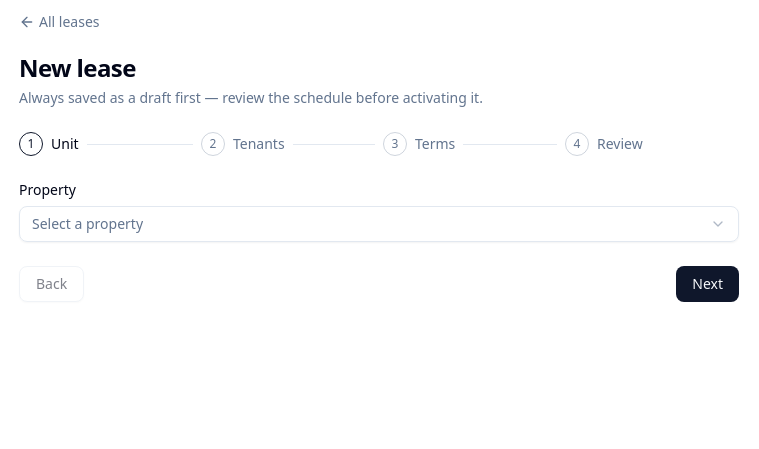
Test: CreateLeasePage wizard › does not advance past the tenants step until at least one tenant is selected
The image size is (759, 449).
Click the dropdown labelled "Select a property": (88, 224) [19,206,739,242]
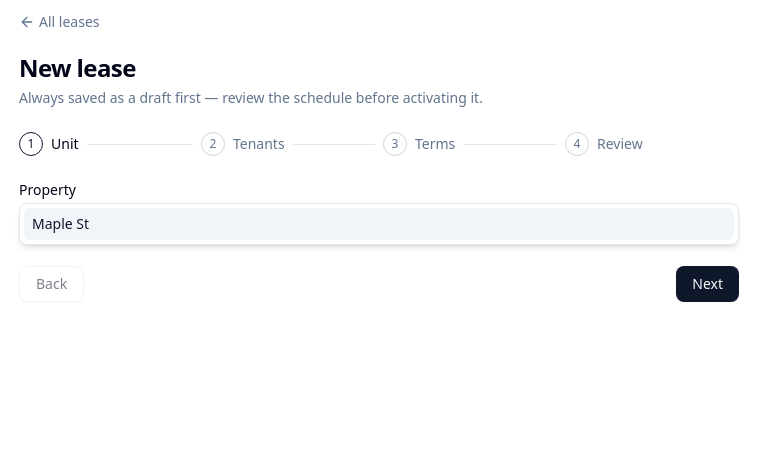
Click the option "Maple St": (61, 224) [24,208,734,240]
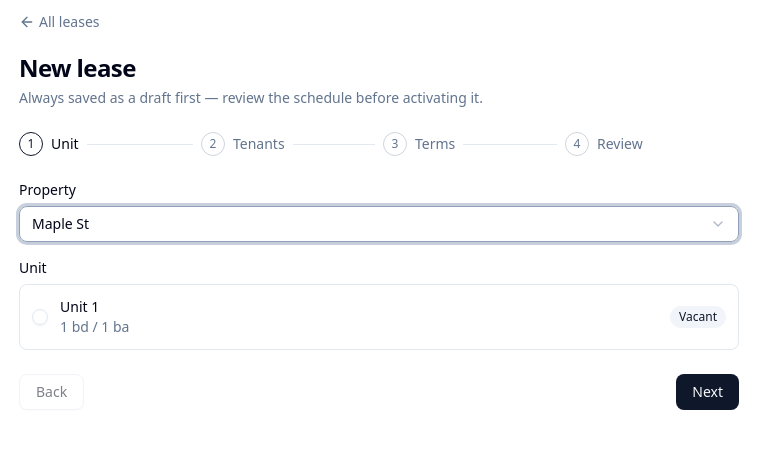
Click the radio button named "unit 1": (40, 317) [32,309,48,325]
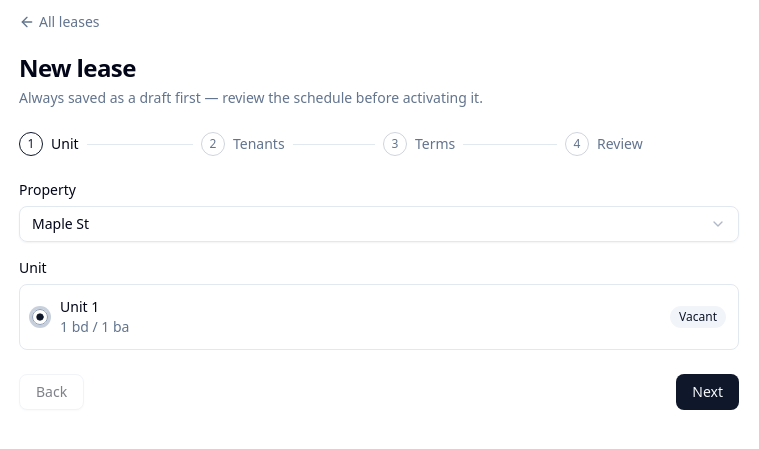
Click the button "Next": (708, 392) [676,374,739,410]
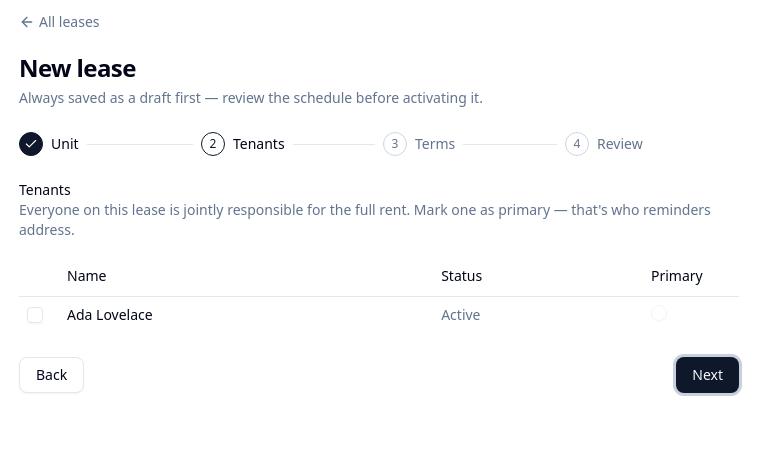
Now the checkbox named "select ada lovelace" is shown, box [27,306,43,322]
Click the button "Next": (708, 374) [676,356,739,392]
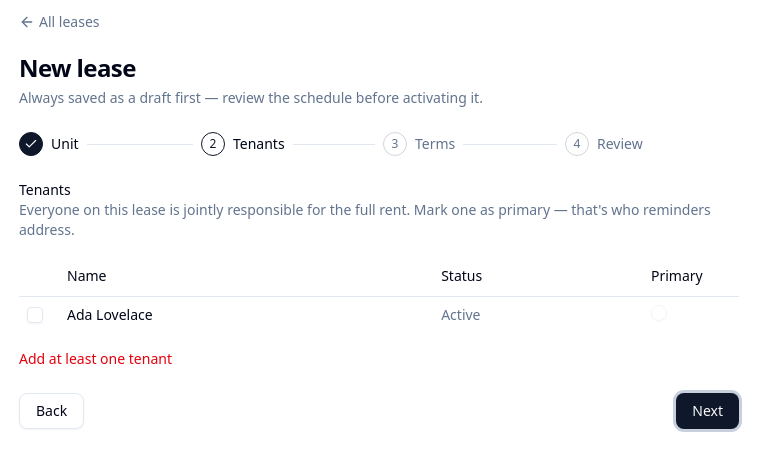
Now the text "Add at least one tenant" is shown, box [19,348,172,368]
